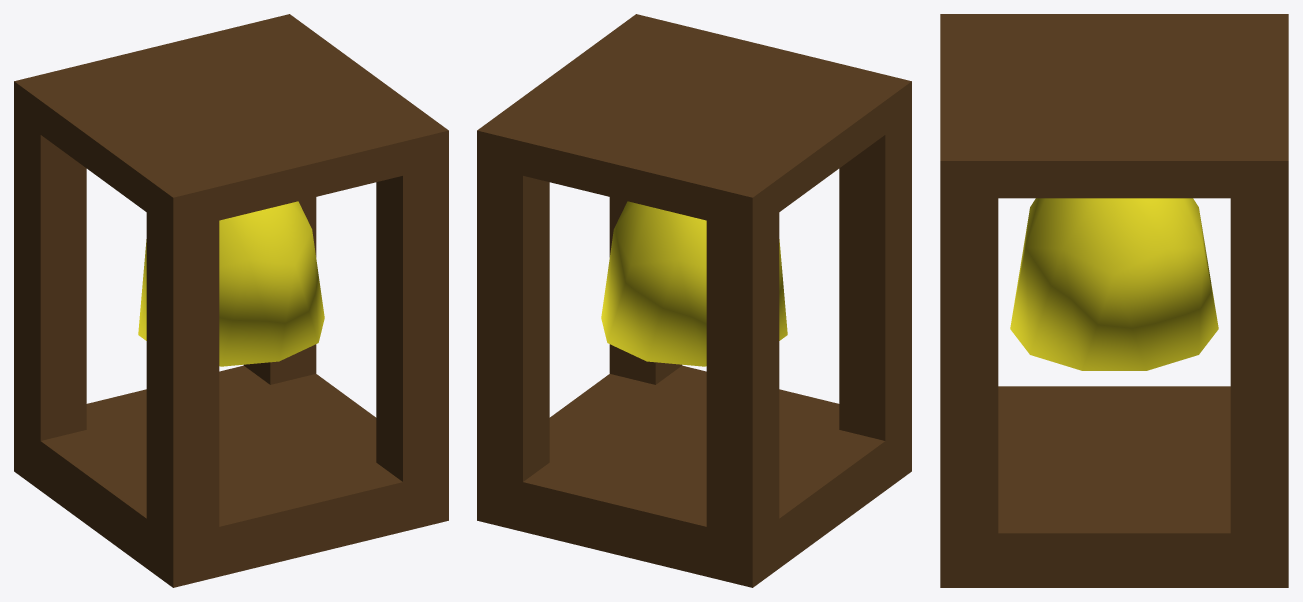
File: Village Bell.fbx
3 renders of one model, left to right at view 1: azimuth 30°, elevation 25°; view 2: azimuth 150°, elevation 25°; view 3: azimuth 270°, elevation 25°, orthographic. The views are drawn at different scales.
Parts seen in each view (by area): view 1: Village Bell Box, Bell; view 2: Village Bell Box, Bell; view 3: Village Bell Box, Bell.
Part boxes in pixels (<box>): Village Bell Box: <box>14,14,448,587</box>; Bell: <box>138,201,324,366</box>; Village Bell Box: <box>477,14,911,587</box>; Bell: <box>601,201,787,366</box>; Village Bell Box: <box>940,14,1288,587</box>; Bell: <box>1010,198,1218,370</box>.
Size of the model in its own units: 1.51 by 2.04 by 1.51.
